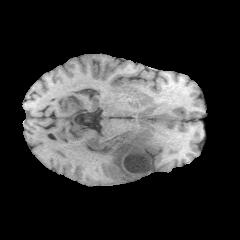glioma: (72, 131, 154, 177)
